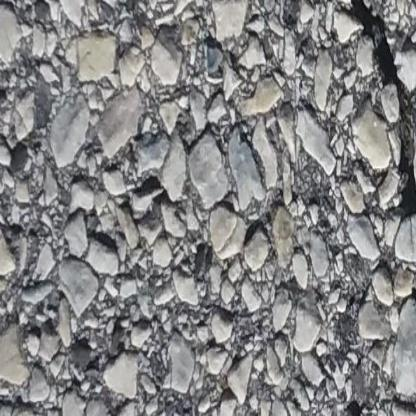Cracks: (351, 0, 416, 257)
